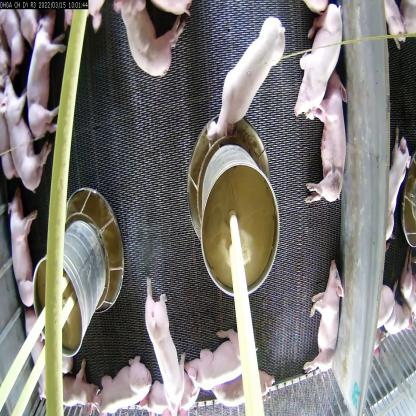Pig: (208, 16, 291, 138), (290, 1, 343, 129), (17, 1, 66, 131), (310, 262, 350, 409), (140, 283, 184, 408), (316, 85, 356, 217), (0, 79, 48, 186), (109, 0, 170, 73), (181, 322, 244, 381), (0, 194, 38, 288), (96, 360, 159, 415), (224, 363, 277, 412), (155, 368, 201, 415)
